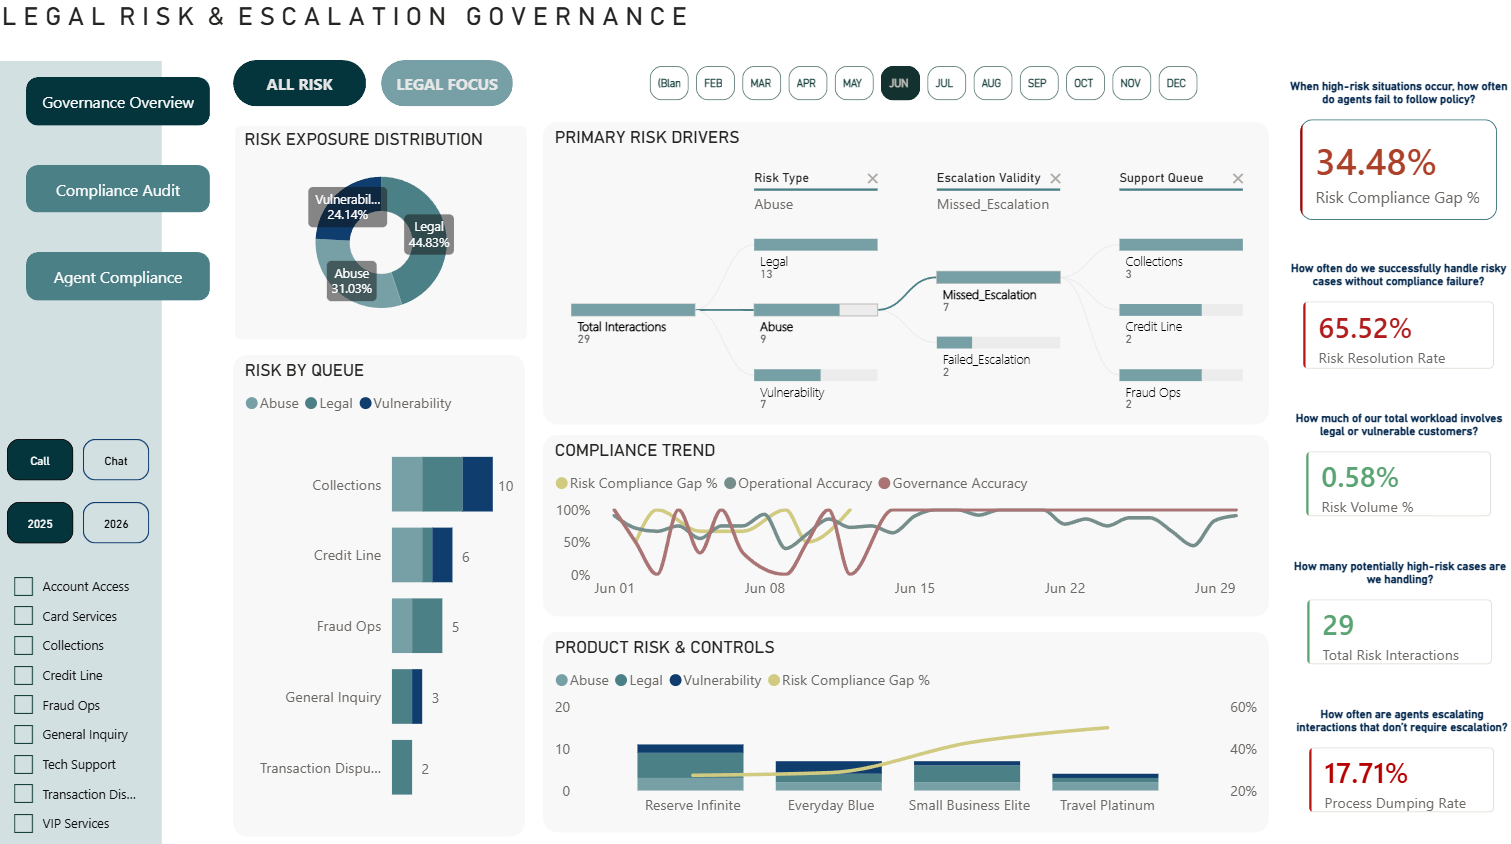

Layout of this report page (visuals, bound fields, positions):
{"tool":"powerbi","page":{"name":"GOVERNANCE OVERVIEW","canvas":[1280,720],"ordinal":0},"visuals":[{"type":"textbox","box":[0,0,605.4,38.1],"z":0},{"type":"actionButton","box":[25,68.9,155.2,41.1],"z":0,"group":"g1"},{"type":"donutChart","title":"LEGAL EXPOSURE DISTRIBUTION","fields":{"Category":["Interactions.Legal_Category"],"Y":["_Measures.Total Interactions"]},"box":[203.1,109.4,247.6,181.4],"z":0,"group":"g2"},{"type":"cardVisual","fields":{"Data":["_Measures.Legal Resolution Rate"]},"box":[1089.7,236.4,190.5,110.7],"z":0,"group":"g3"},{"type":"shape","box":[0,55.3,139.8,664.5],"z":1000},{"type":"actionButton","box":[25,143.2,155.2,40.2],"z":1000,"group":"g1"},{"type":"cardVisual","fields":{"Data":["_Measures.Legal Mention Rate"]},"box":[1088.6,360.6,191,111],"z":1000,"group":"g3"},{"type":"lineChart","title":"LEGAL COMPLIANCE TREND","fields":{"Category":["Interactions.date"],"Y":["_Measures.Legal Compliance Gap","_Measures.Escalation Accuracy","_Measures.Governance Accuracy"]},"box":[465.5,372.9,612.6,152.9],"z":1000,"group":"g2"},{"type":"cardVisual","fields":{"Data":["_Measures.Legal Compliance Gap"]},"box":[1078.5,49.4,201.9,173.4],"z":2000,"group":"g3"},{"type":"actionButton","box":[25,216.6,155.2,41.1],"z":2000,"group":"g1"},{"type":"barChart","title":"LEGAL CATEGORY BY QUEUE","fields":{"Category":["Interactions.queue"],"Series":["Interactions.Legal_Category"],"Y":["_Measures.Total Interactions"]},"box":[205.4,304.5,246.4,406.1],"z":2000,"group":"g2"},{"type":"cardVisual","fields":{"Data":["_Measures.Litigation Severity Rate"]},"box":[1088.6,485.1,191,111],"z":3000,"group":"g3"},{"type":"lineStackedColumnComboChart","title":"PRODUCT RISK & CONTROLS (LEGAL)","fields":{"Category":["Interactions.product_type"],"Y":["_Measures.Total Risk Interactions"],"Y2":["_Measures.Legal Compliance Gap"],"Series":["Interactions.Legal_Category"]},"box":[465.5,541.8,612.6,168.8],"z":3000,"group":"g2"},{"type":"actionButton","title":"CALL","box":[205.4,59.2,111.8,38.8],"z":4000,"group":"g2"},{"type":"listSlicer","fields":{"Values":["Interactions.queue"]},"box":[9.3,480.6,120.6,238.4],"z":4000},{"type":"cardVisual","fields":{"Data":["_Measures.Regulatory Mention Rate"]},"box":[1088.6,609.7,191,111],"z":4000,"group":"g3"},{"type":"actionButton","title":"CALL","box":[328.6,59.2,111.8,38.8],"z":5000,"group":"g2"},{"type":"group","id":"g1","title":"Group 1","box":[25,68.9,155.4,188.8],"z":5000},{"type":"advancedSlicerVisual","fields":{"Values":["Interactions.date.Variation.Date Hierarchy.Month"]},"box":[526.1,55.2,514,39.2],"z":6000},{"type":"decompositionTreeVisual","title":"PRIMARY RISK DRIVERS (LEGAL)","fields":{"ExplainBy":["Interactions.Legal_Category","Interactions.escalation_validity","Interactions.queue"],"Analyze":["_Measures.Total Legal Mentions"]},"box":[465.5,110.5,612.6,254.4],"z":6000,"group":"g2"},{"type":"advancedSlicerVisual","fields":{"Values":["Interactions.date.Variation.Date Hierarchy.Year"]},"box":[4.2,422.5,130.4,45],"z":7000},{"type":"advancedSlicerVisual","fields":{"Values":["Interactions.interaction_type"]},"box":[4.2,369.3,130.4,45],"z":8000},{"type":"group","id":"g2","title":"Group 3","box":[203.1,59.2,875.1,651.5],"z":10000},{"type":"group","id":"g3","title":"Group 5","box":[1078.5,49.4,201.9,671.3],"z":12000}]}

Visuals, with their boxes in screenshot pixels (x1, y1, x2, y2), scaled from the page's 1280x720 canvas onto the 1511x844 screenshot:
textbox: locate(0, 0, 715, 45)
actionButton: locate(30, 81, 213, 129)
"LEGAL EXPOSURE DISTRIBUTION" donutChart: locate(240, 128, 532, 341)
cardVisual - _Measures.Legal Resolution Rate: locate(1286, 277, 1510, 407)
shape: locate(0, 65, 165, 843)
actionButton: locate(30, 168, 213, 215)
cardVisual - _Measures.Legal Mention Rate: locate(1285, 423, 1510, 553)
"LEGAL COMPLIANCE TREND" lineChart: locate(550, 437, 1273, 616)
cardVisual - _Measures.Legal Compliance Gap: locate(1273, 58, 1510, 261)
actionButton: locate(30, 254, 213, 302)
"LEGAL CATEGORY BY QUEUE" barChart: locate(242, 357, 533, 833)
cardVisual - _Measures.Litigation Severity Rate: locate(1285, 569, 1510, 699)
"PRODUCT RISK & CONTROLS (LEGAL)" lineStackedColumnComboChart: locate(550, 635, 1273, 833)
"CALL" actionButton: locate(242, 69, 374, 115)
listSlicer - Interactions.queue: locate(11, 563, 153, 843)
cardVisual - _Measures.Regulatory Mention Rate: locate(1285, 715, 1510, 843)
"CALL" actionButton: locate(388, 69, 520, 115)
"Group 1" group: locate(30, 81, 213, 302)
advancedSlicerVisual - Interactions.date.Variation.Date Hierarchy.Month: locate(621, 65, 1228, 111)
"PRIMARY RISK DRIVERS (LEGAL)" decompositionTreeVisual: locate(550, 130, 1273, 428)
advancedSlicerVisual - Interactions.date.Variation.Date Hierarchy.Year: locate(5, 495, 159, 548)
advancedSlicerVisual - Interactions.interaction_type: locate(5, 433, 159, 486)
"Group 3" group: locate(240, 69, 1273, 833)
"Group 5" group: locate(1273, 58, 1510, 843)
